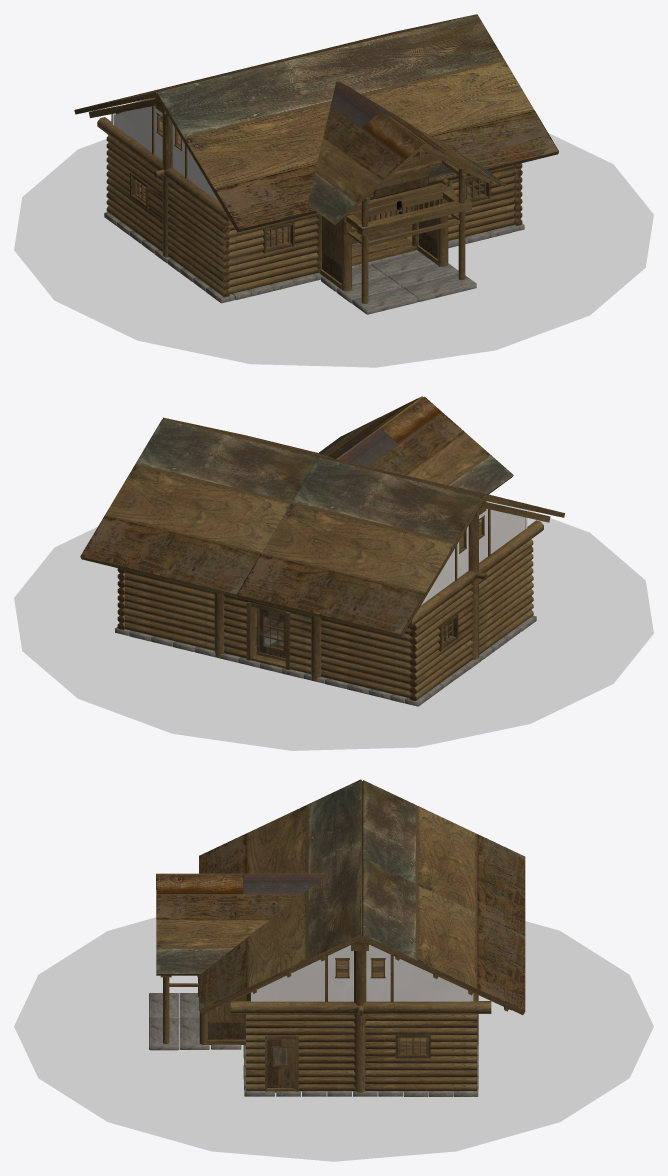
The model's file is lodge.glb.
3 renders of one model, top to bottom at view 1: azimuth 30°, elevation 25°; view 2: azimuth 150°, elevation 25°; view 3: azimuth 270°, elevation 25°, orthographic.
Visible parts, largest first — view 1: lodge, ground; view 2: lodge, ground; view 3: lodge, ground.
Part boxes in pixels (bbox=[...]): lodge: bbox=[74, 14, 558, 314]; ground: bbox=[14, 133, 653, 367]; lodge: bbox=[80, 396, 564, 706]; ground: bbox=[14, 501, 653, 750]; lodge: bbox=[149, 779, 525, 1096]; ground: bbox=[14, 917, 653, 1161].
Size of the model in its own units: 20.4 by 5.92 by 20.4.
6 materials, 3 textured.
